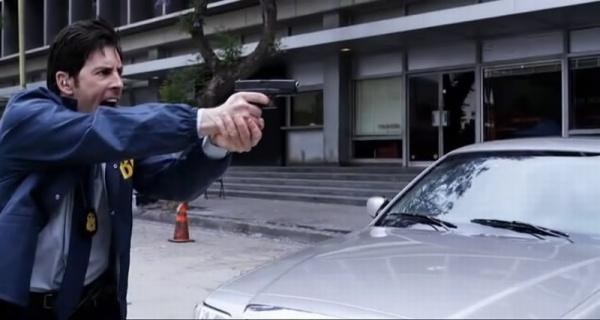Gun: (234, 77, 301, 102)
